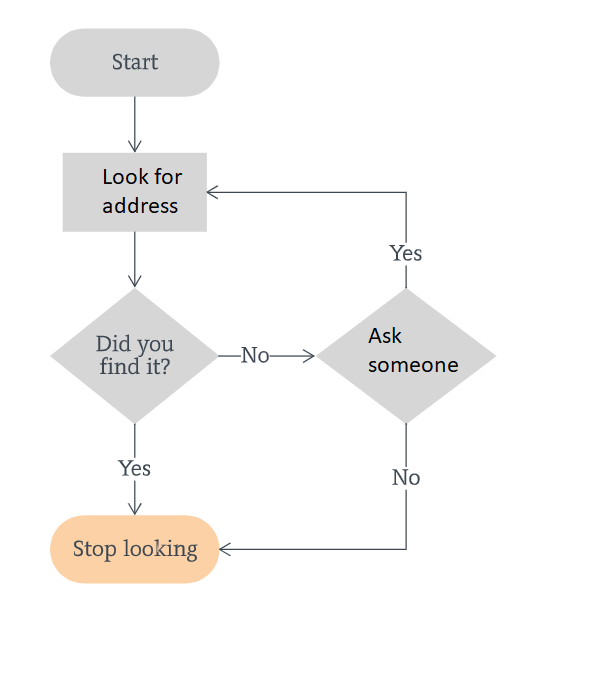arrow: (216, 421, 414, 559), (206, 182, 412, 289), (124, 420, 148, 518), (215, 348, 319, 367), (125, 231, 143, 291), (127, 96, 142, 153)
decision: (313, 288, 497, 425), (48, 287, 222, 428)
process: (60, 150, 211, 234)
terminator: (46, 24, 222, 100), (48, 511, 222, 587)
text: (363, 324, 462, 374), (100, 164, 186, 215), (95, 332, 175, 377), (71, 536, 203, 563), (108, 49, 162, 73), (114, 458, 153, 481), (388, 241, 424, 264), (237, 343, 271, 366), (388, 465, 421, 488)
